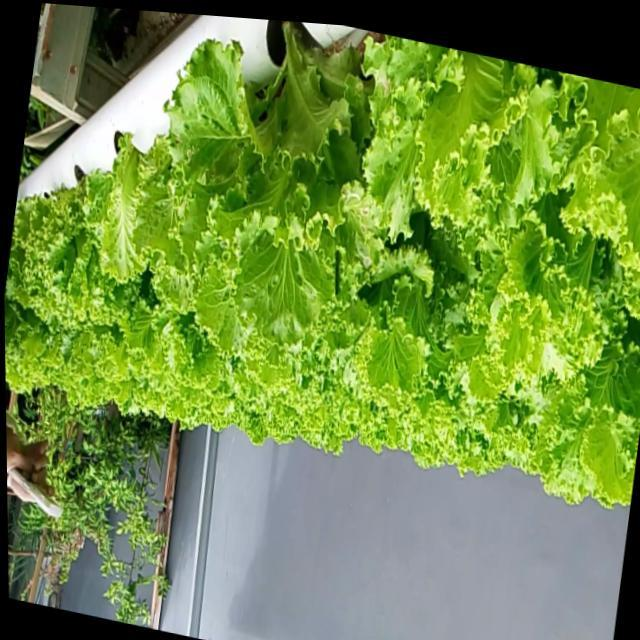Mature: (4, 24, 640, 509), (194, 38, 391, 335), (14, 156, 164, 362)
